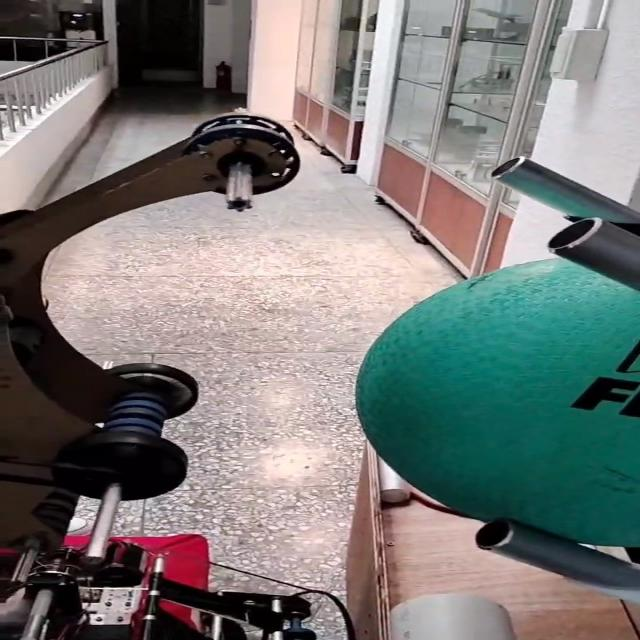ALGAE: (350, 257, 640, 550)
